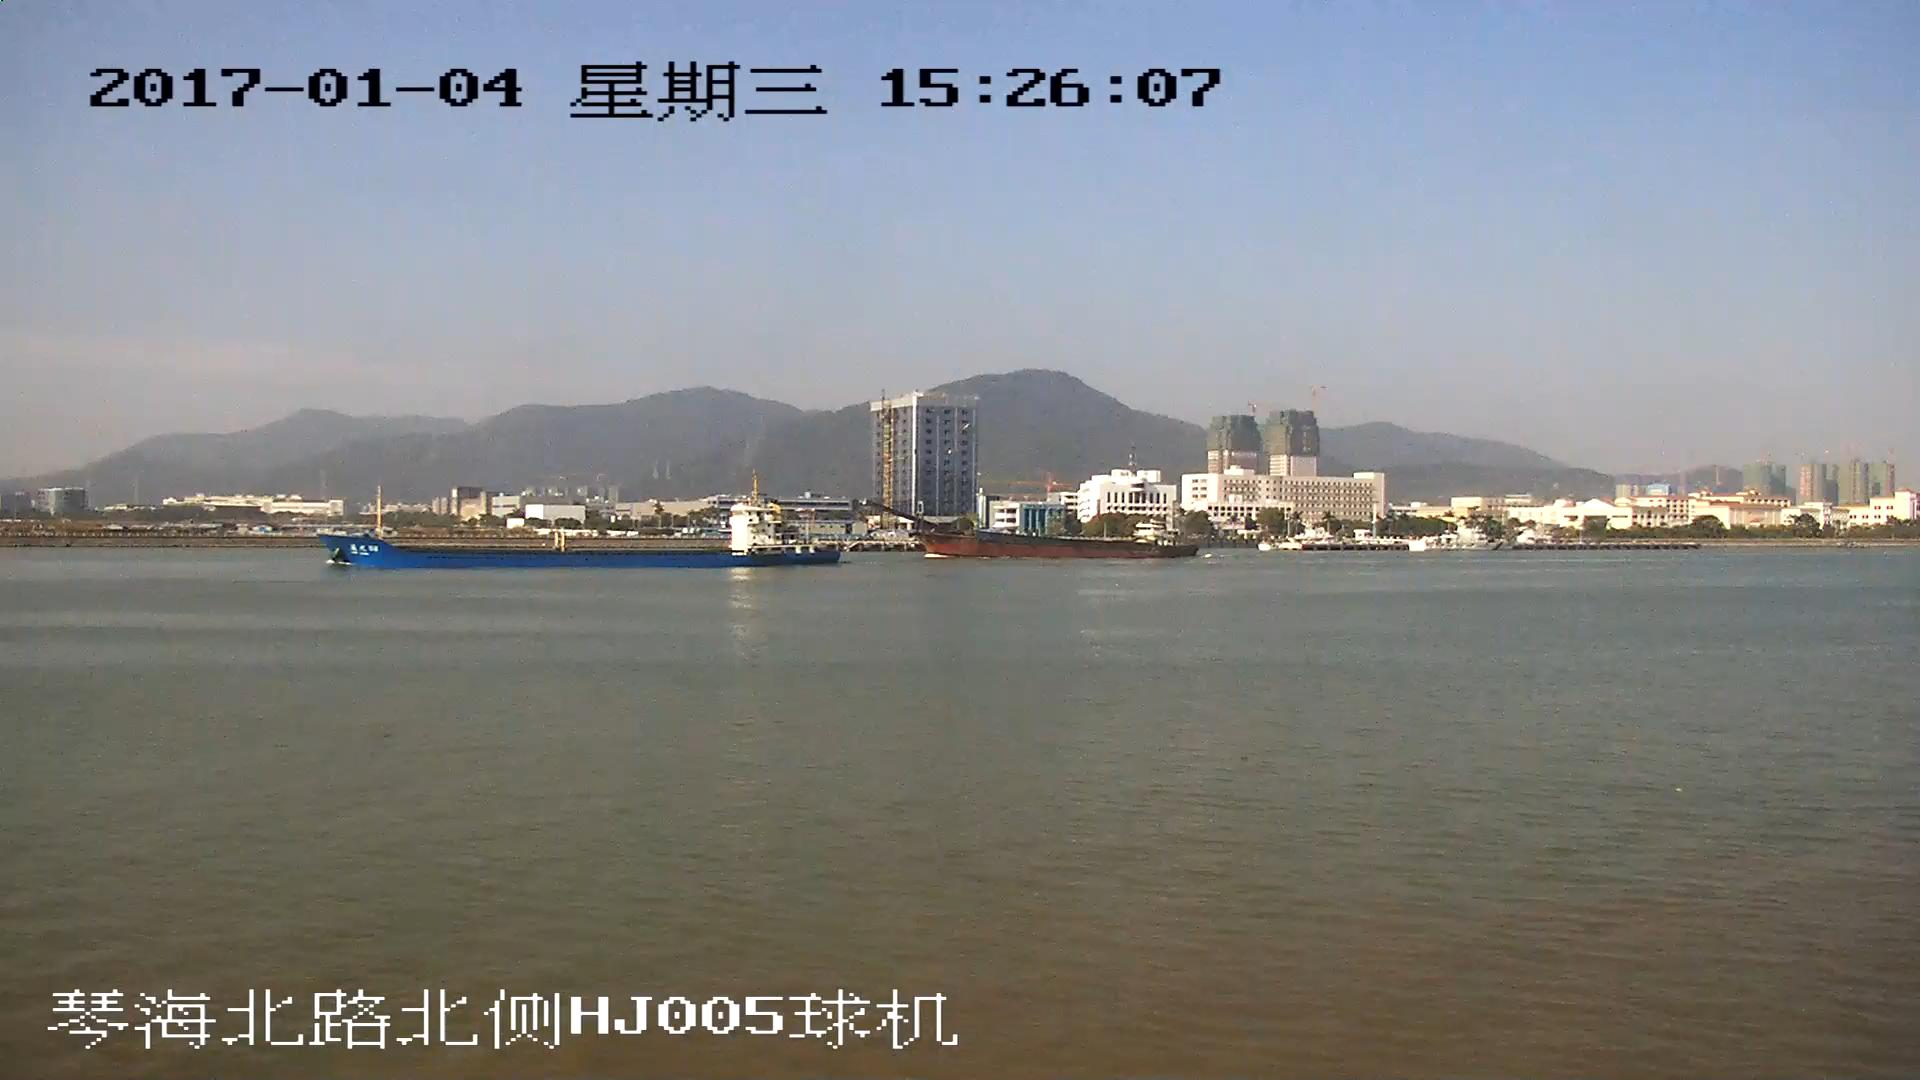bulk cargo carrier: (867, 499, 1197, 562)
general cargo ship: (315, 488, 838, 565)
